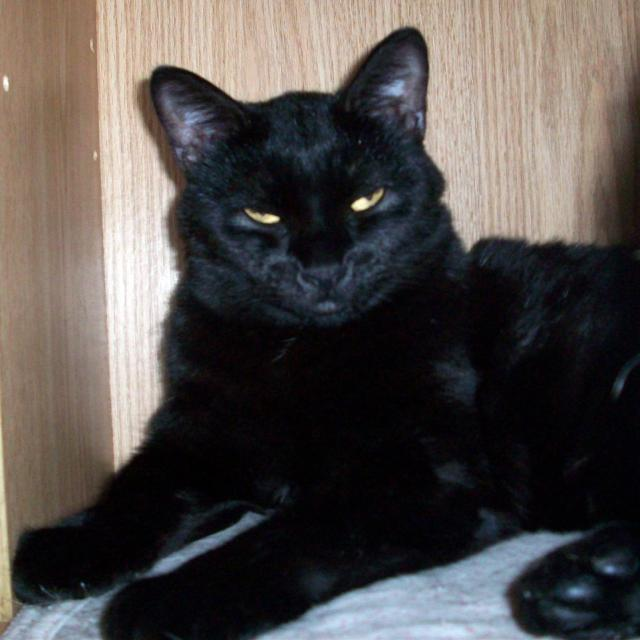Cat: (12, 24, 639, 638)
